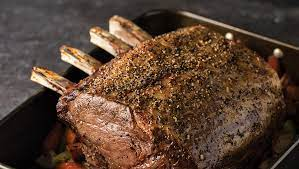prime_rib: (19, 5, 291, 169)
